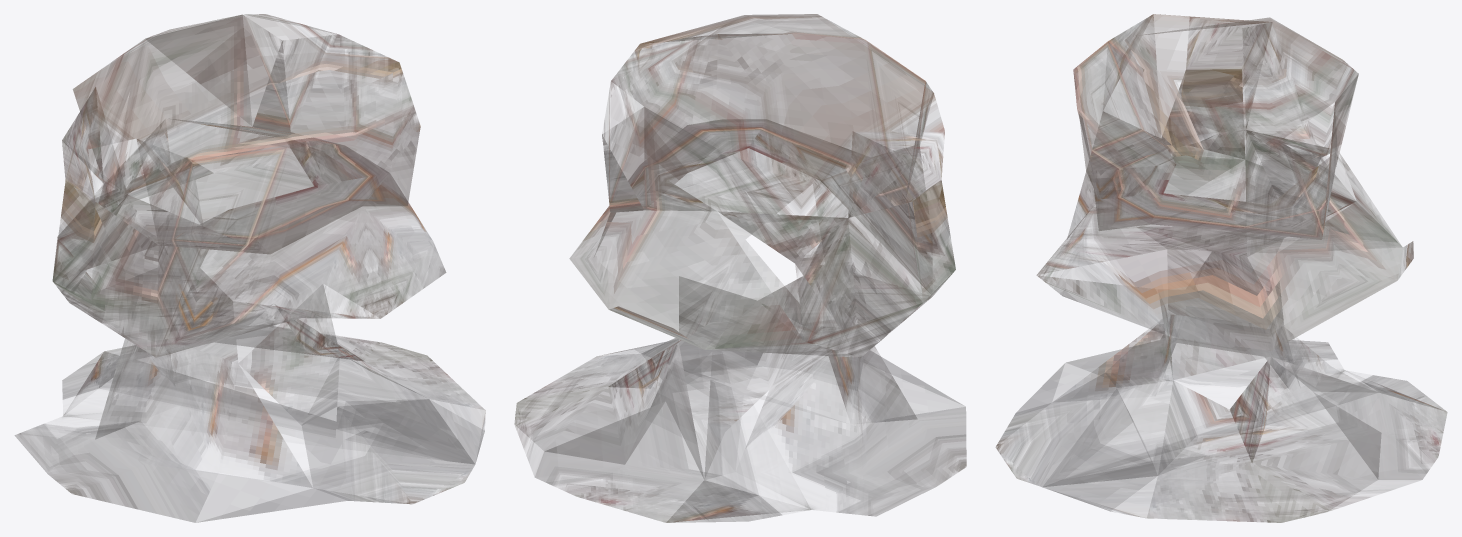
3 views of the same model, side by side, from view 1: azimuth 30°, elevation 25°; view 2: azimuth 150°, elevation 25°; view 3: azimuth 270°, elevation 25° (orthographic). The views are drawn at different scales.
Visible parts, largest first — view 1: Object_4; view 2: Object_4; view 3: Object_4.
Part boxes in pixels (bbox=[...]): Object_4: bbox=[15, 14, 485, 522]; Object_4: bbox=[514, 14, 966, 522]; Object_4: bbox=[996, 14, 1447, 522].
Bounding box in the file's own units: 1.9 × 1.78 × 1.9.
Materials: 1 (1 with a texture image).
